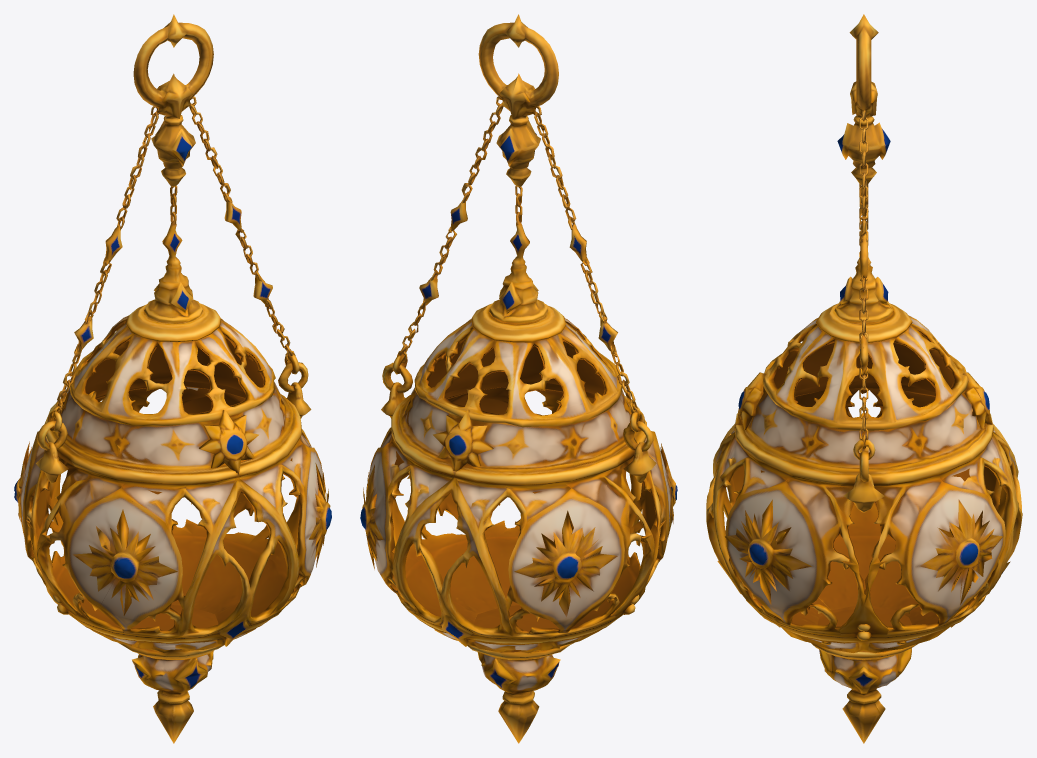
Rendered from priest_censer.fbx.
3 views of the same model, side by side, from view 1: azimuth 30°, elevation 25°; view 2: azimuth 150°, elevation 25°; view 3: azimuth 270°, elevation 25° (orthographic).
Visible parts, largest first — view 1: geometry_0; view 2: geometry_0; view 3: geometry_0.
Part boxes in pixels (x1,y1,x2,y2): geometry_0: (14,14,331,743); geometry_0: (360,14,677,743); geometry_0: (706,14,1022,743).
Bounding box in the file's own units: 37.79 × 95.31 × 37.45.
Materials: 1 (1 with a texture image).
